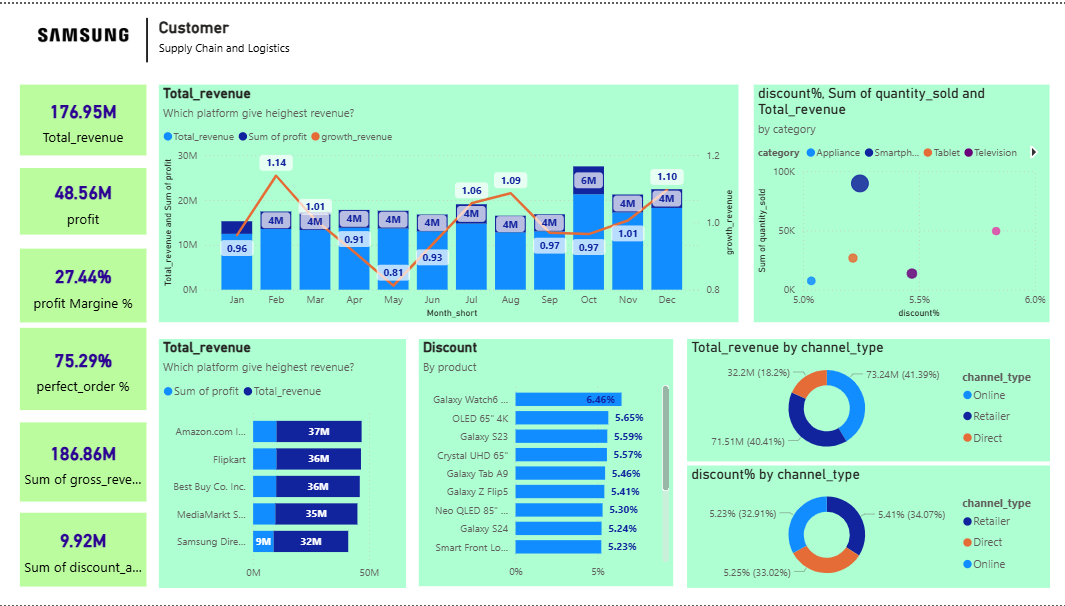

What the dashboard file says about the page in this screenshot:
{"tool":"powerbi","page":{"name":"Customer","canvas":[1280,720],"ordinal":5},"visuals":[{"type":"shape","title":"Customer","box":[192,17.2,161.7,46.7],"z":0},{"type":"shape","box":[162.8,17.2,28.3,53.3],"z":1000},{"type":"image","box":[33.3,16.7,130,40],"z":2000},{"type":"card","fields":{"Values":["measurestable.Total_revenue"]},"box":[25,96.7,151.7,85],"z":3000},{"type":"card","fields":{"Values":["measurestable.profit"]},"box":[25,196.7,151.7,80],"z":4000},{"type":"card","fields":{"Values":["measurestable.profit Margine %"]},"box":[25,293.3,151.7,88.3],"z":5000},{"type":"card","fields":{"Values":["measurestable.perfect_order %"]},"box":[25,388.3,151.7,98.3],"z":6000},{"type":"card","fields":{"Values":["Sum(fact_sales.discount_amount)"]},"box":[25,610,151.7,88.3],"z":7000},{"type":"card","fields":{"Values":["Sum(fact_sales.gross_revenue)"]},"box":[25,501.7,151.7,95],"z":8000},{"type":"donutChart","fields":{"Category":["dim_customer.channel_type"],"Y":["measurestable.Total_revenue"]},"box":[825,401.7,435,146.7],"z":9000},{"type":"lineStackedColumnComboChart","title":"Total_revenue","fields":{"Category":["dim_date.Month_short"],"Y":["measurestable.Total_revenue","Sum(fact_sales.profit)"],"Y2":["measurestable.growth_revenue"]},"box":[191.7,96.7,695,285],"z":10000},{"type":"scatterChart","fields":{"X":["measurestable.discount%"],"Y":["Sum(fact_sales.quantity_sold)"],"Series":["dim_product.category"],"Size":["measurestable.Total_revenue"]},"box":[905,96.7,355,285],"z":11000},{"type":"barChart","title":"Total_revenue","fields":{"Y":["Sum(fact_sales.profit)","measurestable.Total_revenue"],"Category":["dim_customer.customer_name"]},"box":[191.7,401.7,296.7,298.3],"z":12000},{"type":"barChart","title":"Discount","fields":{"Y":["measurestable.discount%"],"Category":["dim_product.product_name"]},"box":[503.3,401.7,305,296.7],"z":13000},{"type":"donutChart","fields":{"Category":["dim_customer.channel_type"],"Y":["measurestable.discount%"]},"box":[825,553.3,435,146.7],"z":14000}]}

Visuals, with their boxes in screenshot pixels (x1, y1, x2, y2), scaled from the page's 1280x720 canvas onto the 1065x606 screenshot:
"Customer" shape: {"left": 160, "top": 14, "right": 294, "bottom": 54}
shape: {"left": 135, "top": 14, "right": 159, "bottom": 59}
image: {"left": 28, "top": 14, "right": 136, "bottom": 48}
card - measurestable.Total_revenue: {"left": 21, "top": 81, "right": 147, "bottom": 153}
card - measurestable.profit: {"left": 21, "top": 166, "right": 147, "bottom": 233}
card - measurestable.profit Margine %: {"left": 21, "top": 247, "right": 147, "bottom": 321}
card - measurestable.perfect_order %: {"left": 21, "top": 327, "right": 147, "bottom": 410}
card - Sum(fact_sales.discount_amount): {"left": 21, "top": 513, "right": 147, "bottom": 588}
card - Sum(fact_sales.gross_revenue): {"left": 21, "top": 422, "right": 147, "bottom": 502}
donutChart - dim_customer.channel_type x measurestable.Total_revenue: {"left": 686, "top": 338, "right": 1048, "bottom": 462}
"Total_revenue" lineStackedColumnComboChart: {"left": 160, "top": 81, "right": 738, "bottom": 321}
scatterChart - measurestable.discount% x Sum(fact_sales.quantity_sold): {"left": 753, "top": 81, "right": 1048, "bottom": 321}
"Total_revenue" barChart: {"left": 160, "top": 338, "right": 406, "bottom": 589}
"Discount" barChart: {"left": 419, "top": 338, "right": 673, "bottom": 588}
donutChart - dim_customer.channel_type x measurestable.discount%: {"left": 686, "top": 466, "right": 1048, "bottom": 589}
